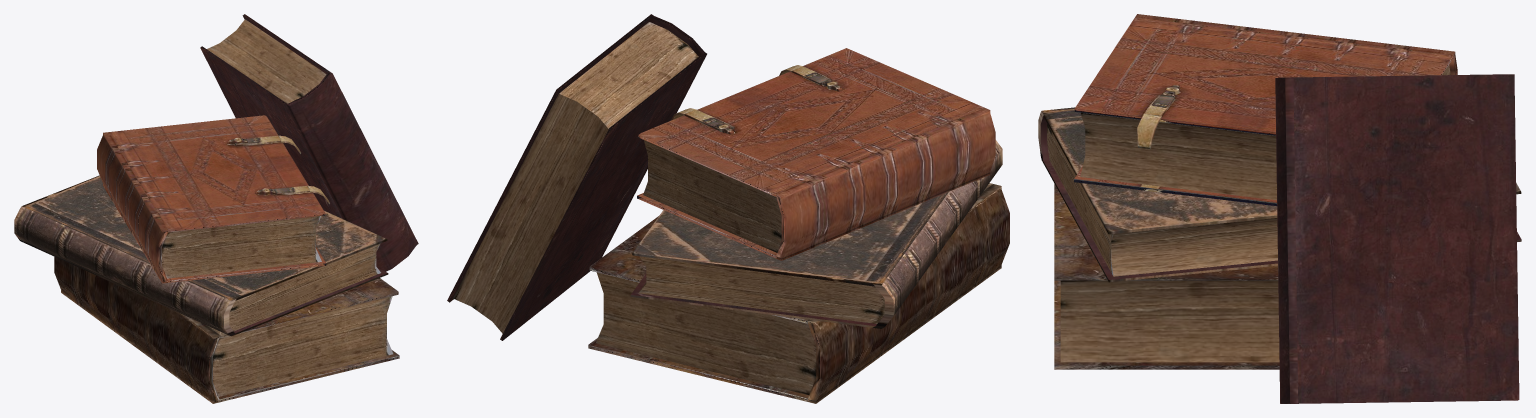
The model's file is books.fbx.
3 renders of one model, left to right at view 1: azimuth 30°, elevation 25°; view 2: azimuth 150°, elevation 25°; view 3: azimuth 270°, elevation 25°, orthographic. The views are drawn at different scales.
Visible parts, largest first — view 1: Books; view 2: Books; view 3: Books.
Part boxes in pixels (bbox=[...]): Books: bbox=[14, 14, 418, 403]; Books: bbox=[447, 14, 1009, 403]; Books: bbox=[1038, 14, 1521, 403].
Size of the model in its own units: 0.3 by 0.182 by 0.2625.
